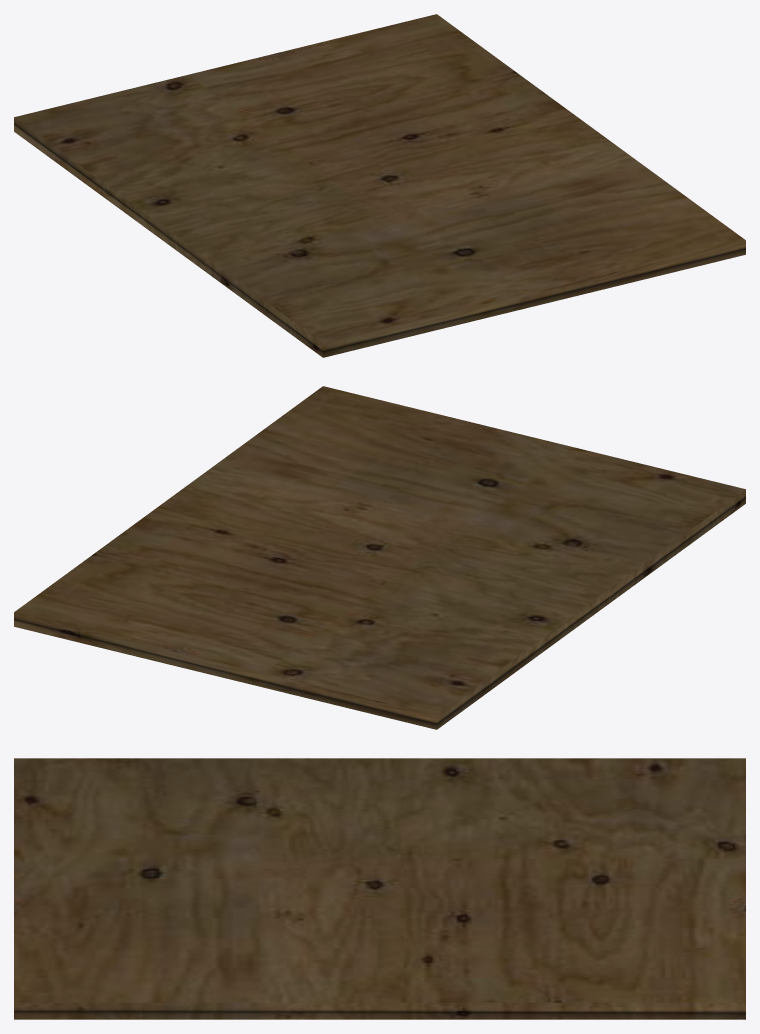
3 renders of one model, top to bottom at view 1: azimuth 30°, elevation 25°; view 2: azimuth 150°, elevation 25°; view 3: azimuth 270°, elevation 25°, orthographic. The views are drawn at different scales.
Visible parts, largest first — view 1: picture familiar; view 2: picture familiar; view 3: picture familiar.
Boxes of the visible parts, left/top/right/bottom form: picture familiar: left=14, top=14, right=745, bottom=357; picture familiar: left=14, top=386, right=745, bottom=729; picture familiar: left=14, top=758, right=745, bottom=1019.
Bounding box in the file's own units: 60.9 × 1.98 × 77.1.
2 materials, 2 textured.
